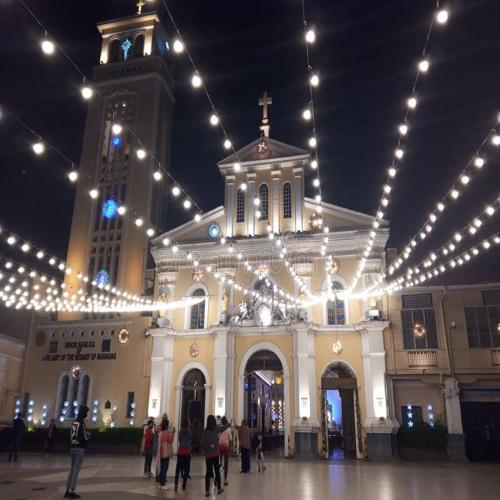Manaoag Church: (67, 7, 391, 464)
